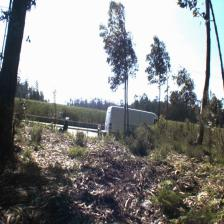trunktrack_idkeyframe: (0, 16, 26, 139), (196, 24, 213, 150)
